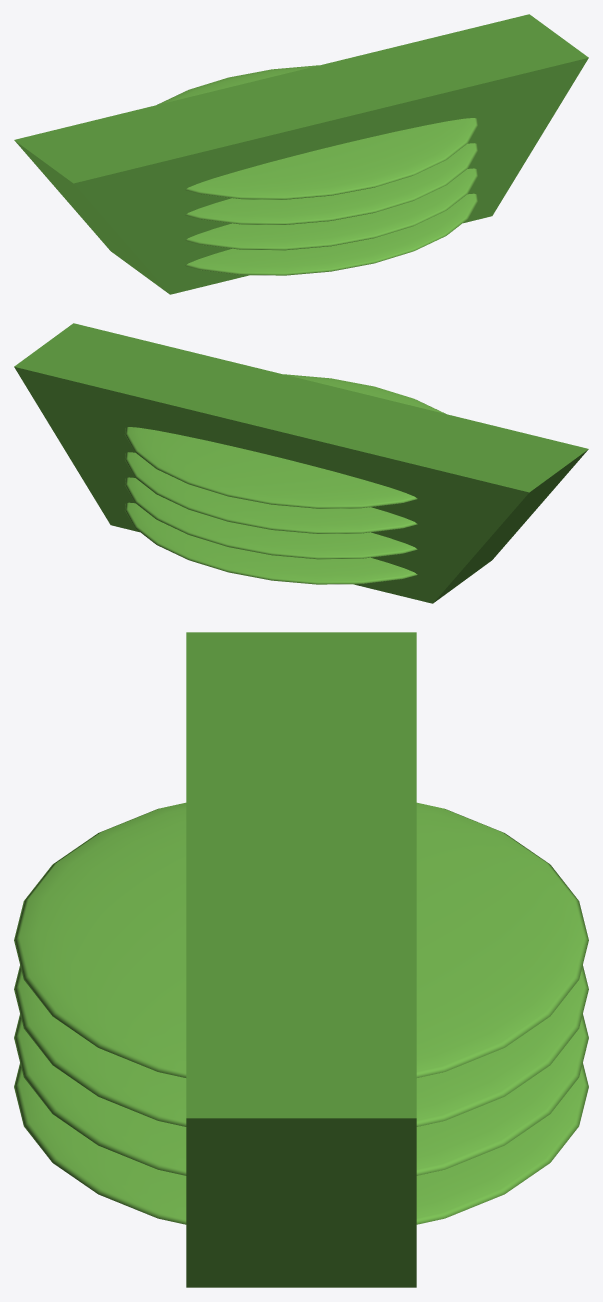
Rendered from wp-petits-pois-en-cosses.glb.
The picture shows the model from 3 angles, top to bottom: view 1: azimuth 30°, elevation 25°; view 2: azimuth 150°, elevation 25°; view 3: azimuth 270°, elevation 25°; orthographic projection. The views are drawn at different scales.
Parts seen in each view (by area): view 1: wp-petits-pois-en-cosses; view 2: wp-petits-pois-en-cosses; view 3: wp-petits-pois-en-cosses.
Part boxes in pixels (bbox=[...]): wp-petits-pois-en-cosses: bbox=[14, 14, 588, 294]; wp-petits-pois-en-cosses: bbox=[14, 323, 588, 603]; wp-petits-pois-en-cosses: bbox=[14, 632, 588, 1287].
Bounding box in the file's own units: 0.14 × 0.035 × 0.07.
